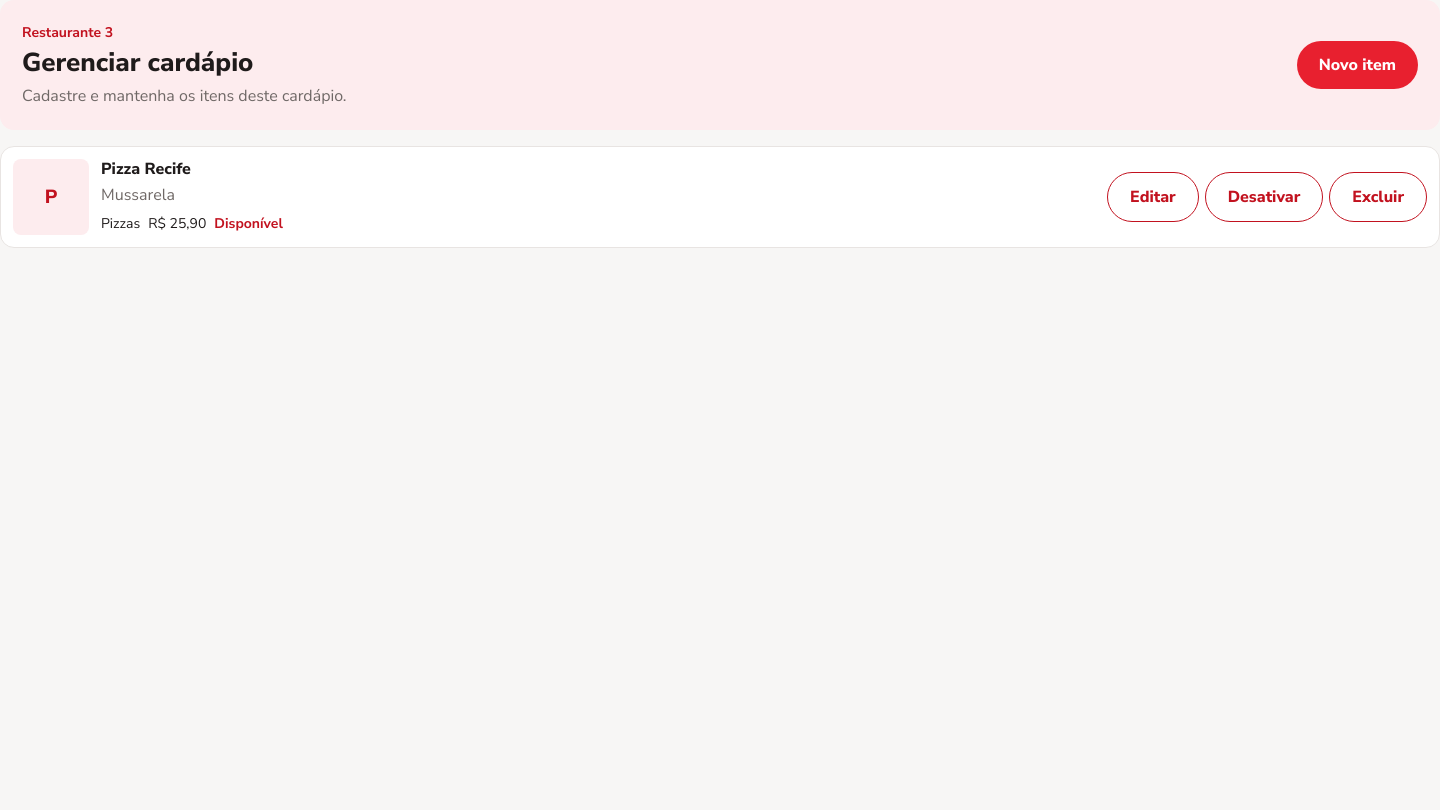
Test: PainelCardapio › fecha o formulário ao excluir o item que está sendo editado
The image size is (1440, 810).
Expected: the heading "Pizza Recife" is shown, [101,158,191,180]
Click the button with aria-label "Editar Pizza Recife".
click(1153, 197)  # box [1107,172,1199,222]
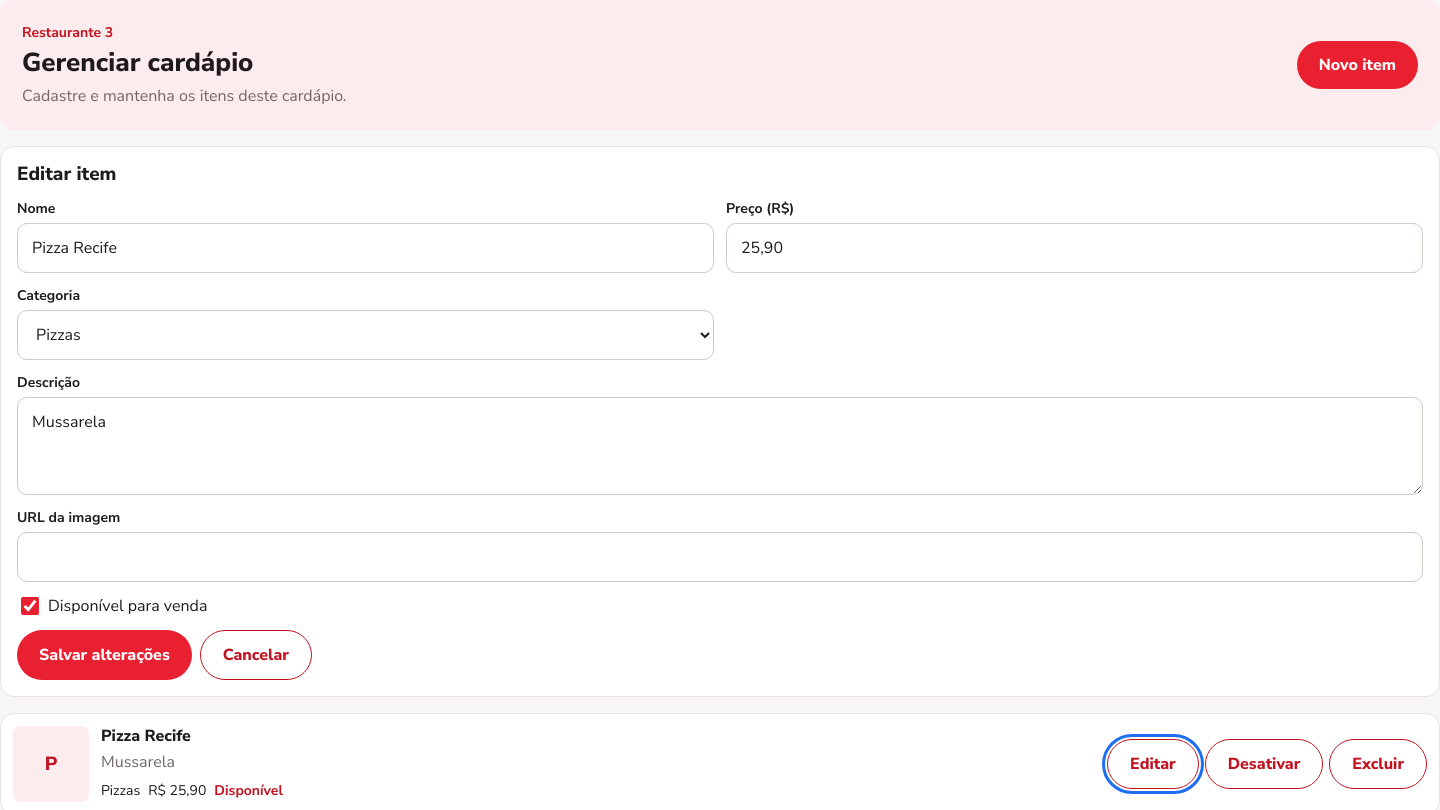
Click the button with aria-label "Excluir Pizza Recife".
click(1378, 764)  # box [1329,739,1427,789]
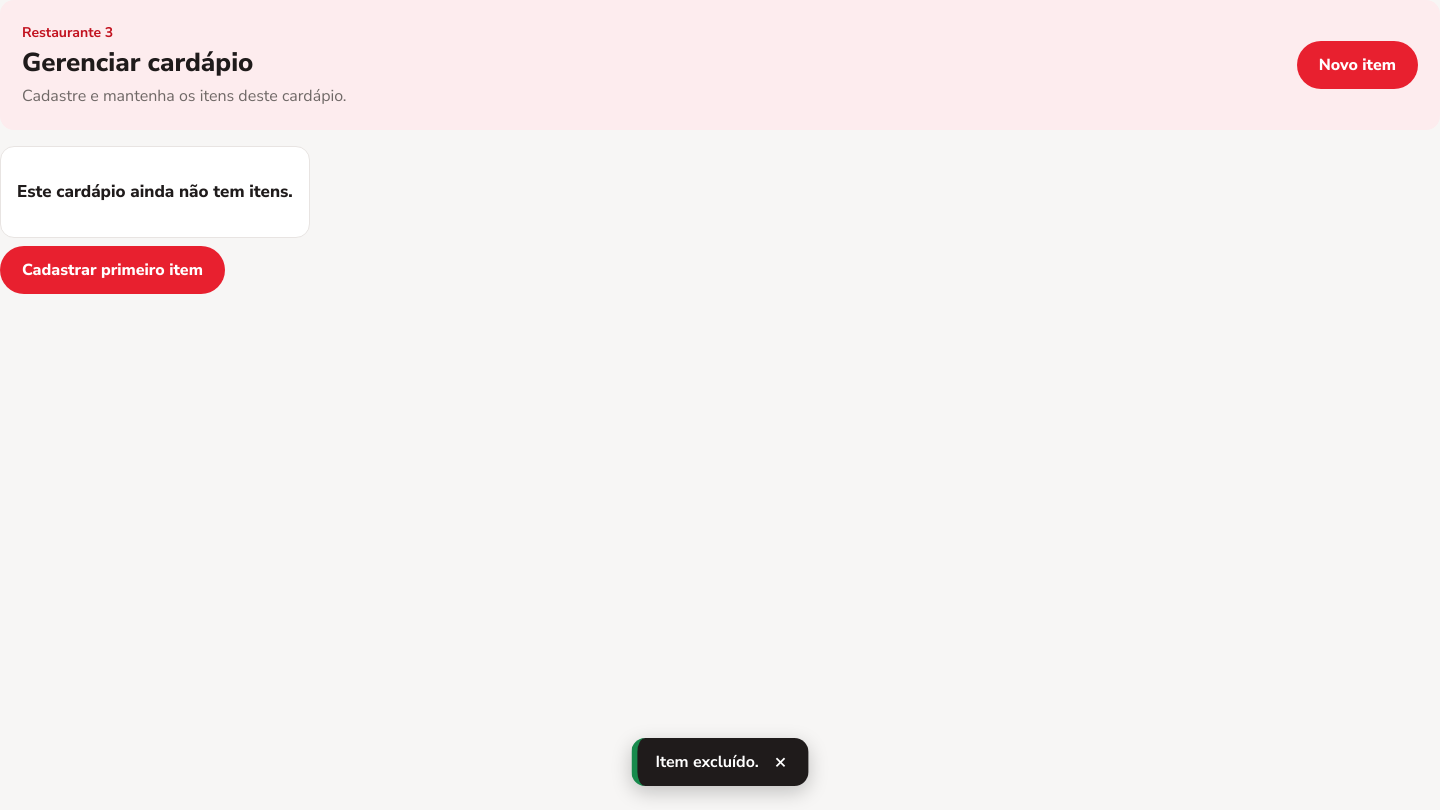
Now the heading "Pizza Recife" is gone
Now the heading "Editar item" is gone
